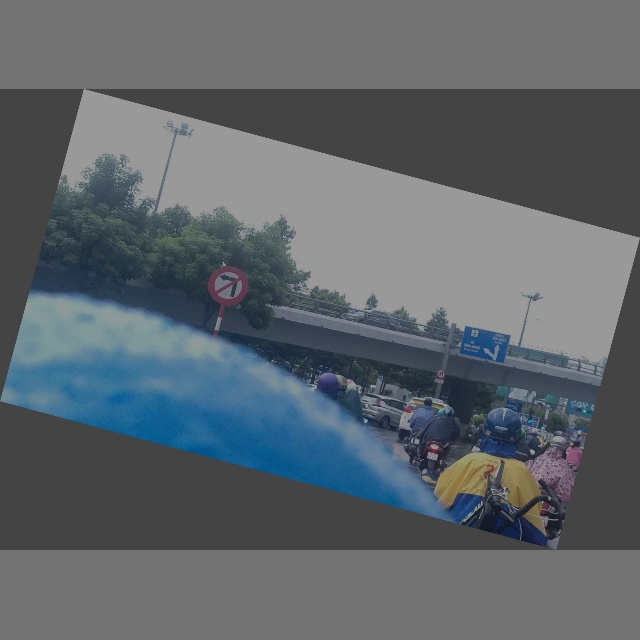P.123b: (204, 262, 252, 311)
P.124b1: (435, 369, 447, 381)
